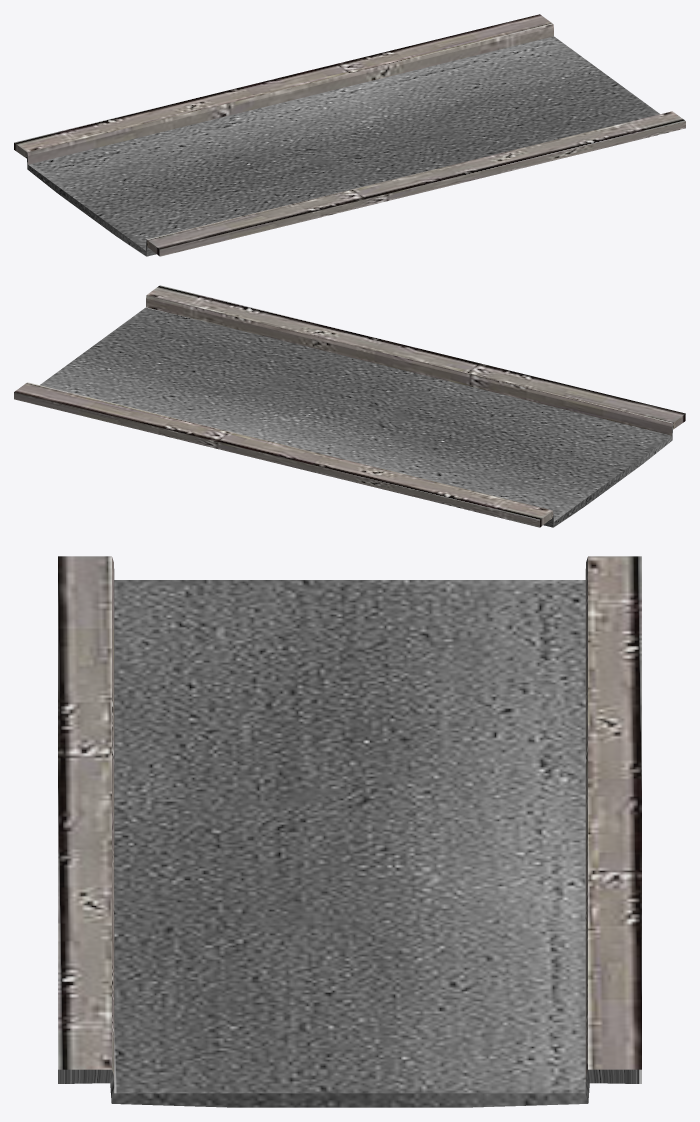
Rendered from calle1monoblock.fbx.
3 renders of one model, top to bottom at view 1: azimuth 30°, elevation 25°; view 2: azimuth 150°, elevation 25°; view 3: azimuth 270°, elevation 25°, orthographic. The views are drawn at different scales.
Parts seen in each view (by area): view 1: 4in 2.008; view 2: 4in 2.008; view 3: 4in 2.008.
Part boxes in pixels (x1,y1,x2,y2): 4in 2.008: (14,14,685,256); 4in 2.008: (14,285,685,527); 4in 2.008: (58,556,641,1107).
Bounding box in the file's own units: 563 × 19.4 × 271.
Materials: 1 (1 with a texture image).
